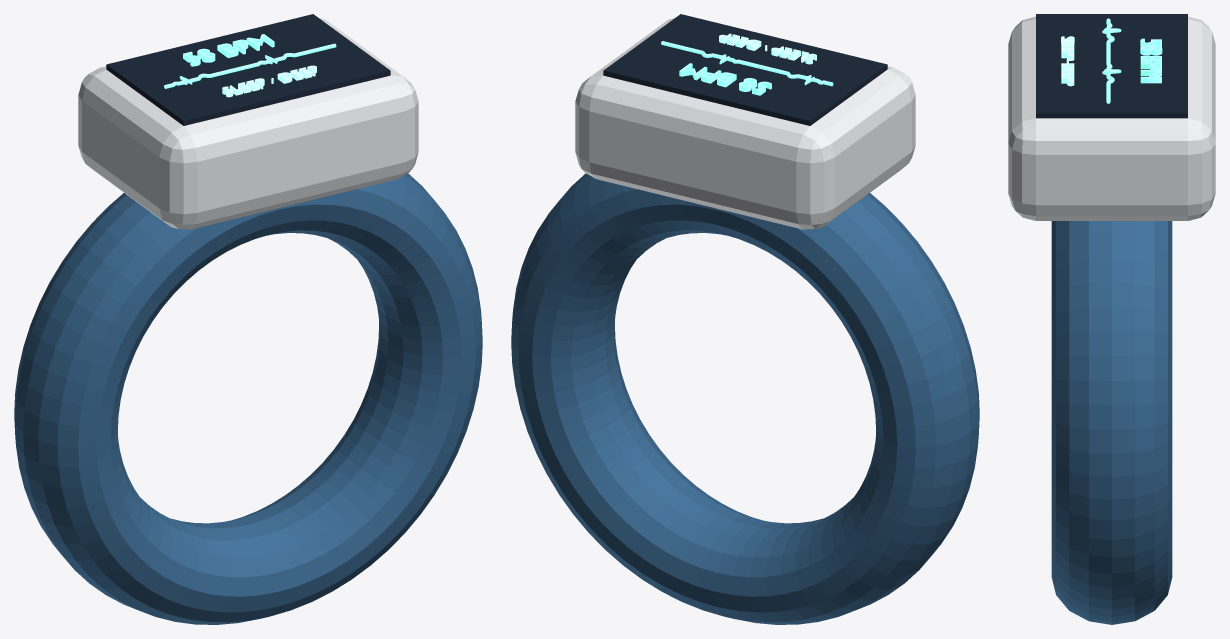
The model's file is sleep_wristband.glb.
The picture shows the model from 3 angles, left to right: view 1: azimuth 30°, elevation 25°; view 2: azimuth 150°, elevation 25°; view 3: azimuth 270°, elevation 25°; orthographic projection.
Visible parts, largest first — view 1: Band, Pod, Screen, HR_Text, Sleep_Text, ECG_trace; view 2: Band, Pod, Screen, HR_Text, Sleep_Text, ECG_trace; view 3: Band, Pod, Screen, HR_Text, Sleep_Text, ECG_trace.
Part boxes in pixels (x1,y1,x2,y2): Band: (14, 173, 482, 624); Pod: (78, 18, 418, 229); Screen: (106, 14, 390, 125); HR_Text: (183, 34, 274, 66); Sleep_Text: (222, 65, 316, 97); ECG_trace: (164, 43, 336, 88); Band: (511, 173, 979, 624); Pod: (575, 18, 915, 229); Screen: (603, 14, 887, 125); HR_Text: (679, 63, 771, 95); Sleep_Text: (719, 33, 816, 64); ECG_trace: (661, 41, 833, 86); Band: (1051, 221, 1172, 624); Pod: (1008, 16, 1215, 220); Screen: (1036, 14, 1187, 118); HR_Text: (1140, 38, 1162, 83); Sleep_Text: (1061, 36, 1074, 86); ECG_trace: (1102, 18, 1121, 103).
Size of the model in its own units: 0.074 by 0.0866 by 0.03.
